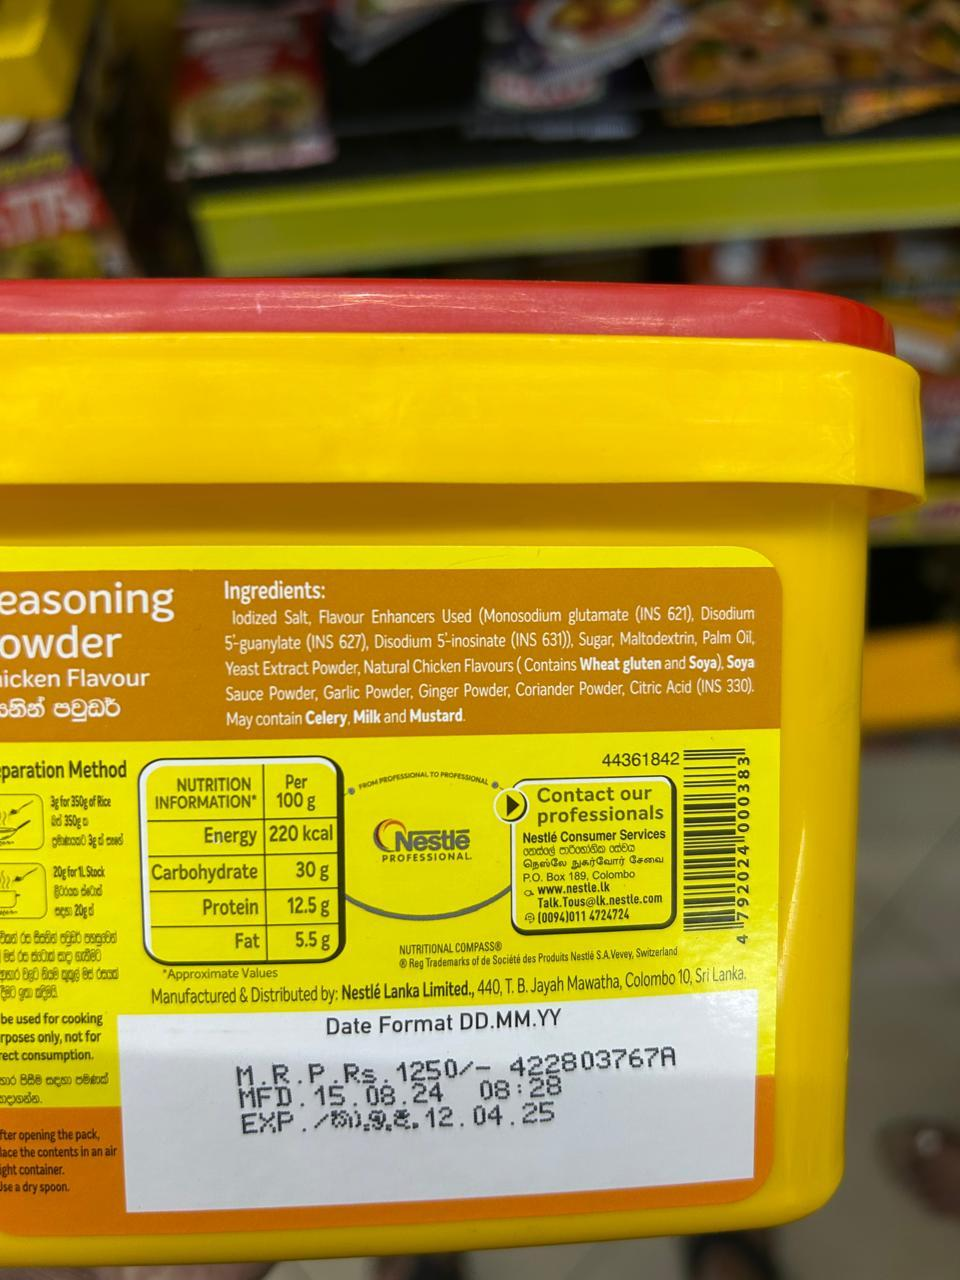ingredients: (218, 558, 783, 745)
